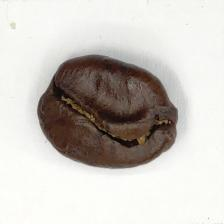NG: (86, 74, 159, 149)
